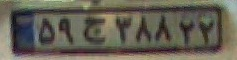character: (80, 16, 110, 46), (154, 13, 175, 48), (36, 17, 57, 48), (56, 16, 77, 47), (114, 16, 134, 47), (198, 15, 216, 47), (179, 15, 196, 48), (135, 15, 153, 46)
